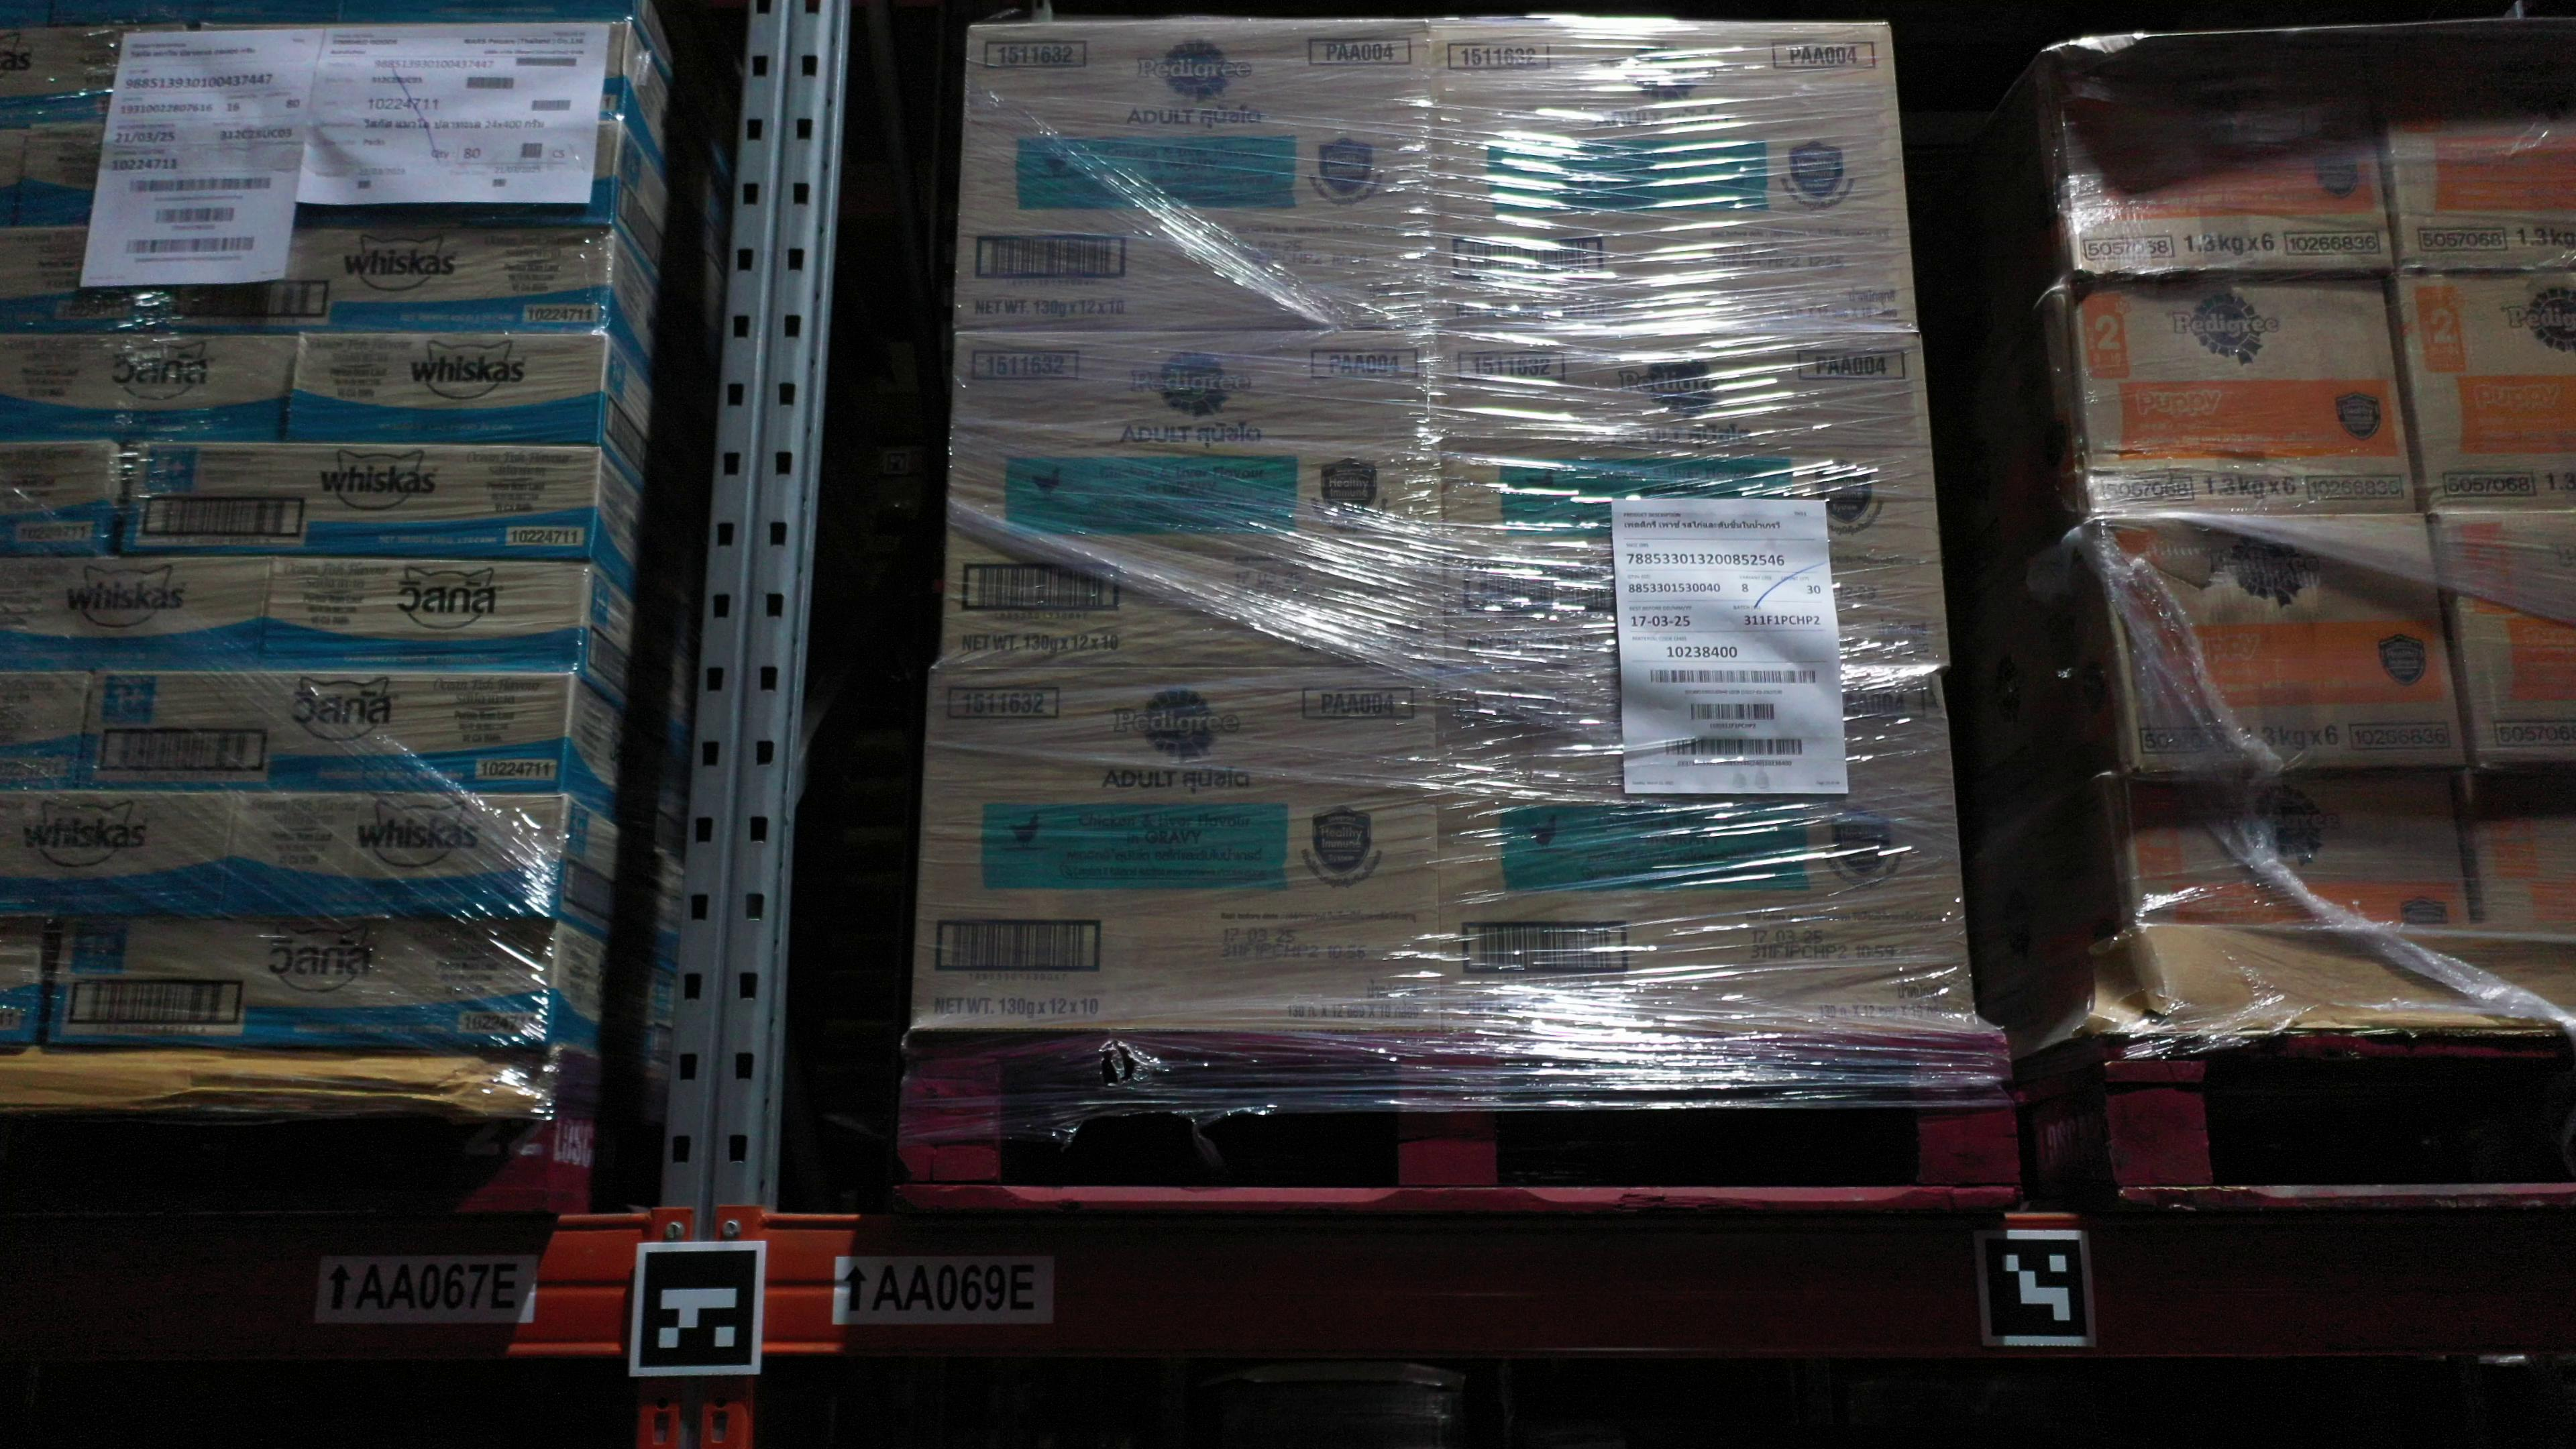-: (906, 663, 1447, 1035), (1440, 667, 1980, 1031), (1438, 329, 1950, 678), (939, 331, 1442, 671), (1435, 19, 1916, 338), (957, 19, 1435, 336), (2093, 517, 2466, 771), (2074, 271, 2426, 517), (2049, 37, 2397, 278), (44, 906, 561, 1051), (74, 669, 575, 791), (2125, 770, 2477, 938), (119, 441, 600, 561), (152, 221, 619, 329), (2371, 34, 2576, 272), (223, 791, 566, 915), (2397, 271, 2576, 508), (186, 27, 628, 120), (260, 554, 593, 678), (2434, 510, 2576, 768), (281, 336, 607, 448), (0, 329, 297, 442), (18, 119, 338, 223), (0, 550, 271, 672), (320, 113, 621, 223), (0, 787, 232, 916), (0, 19, 189, 127), (0, 219, 168, 336), (2466, 770, 2576, 939), (0, 441, 119, 554), (0, 669, 94, 794)
